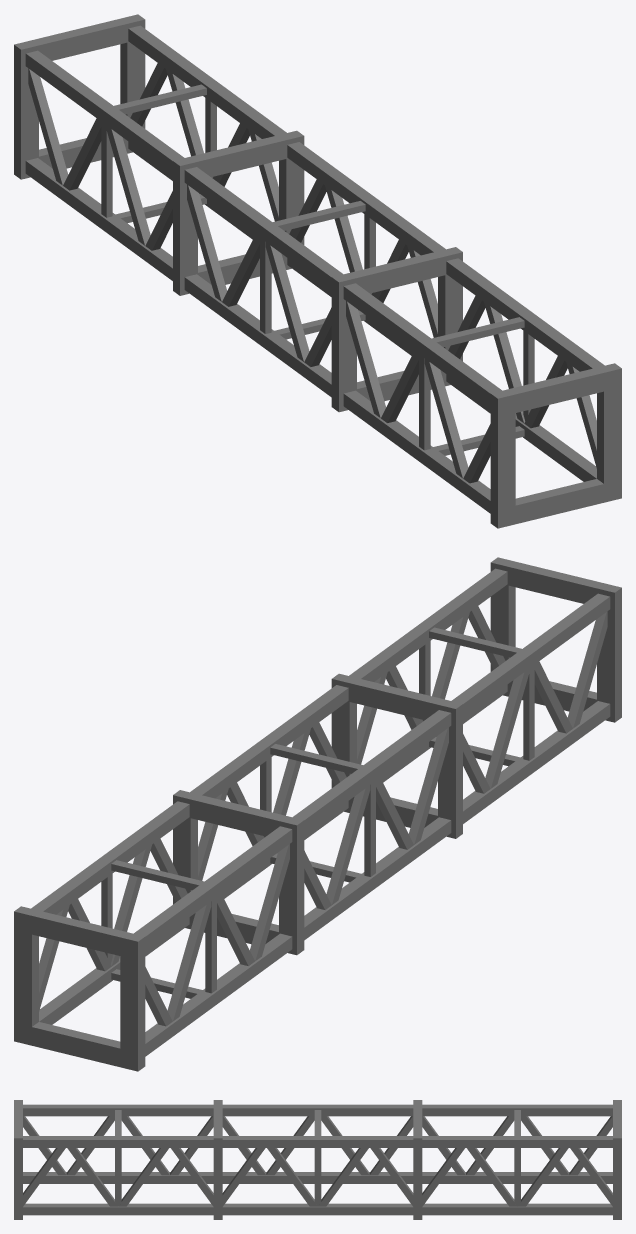
The model's file is Beams_01.fbx.
The picture shows the model from 3 angles, top to bottom: view 1: azimuth 30°, elevation 25°; view 2: azimuth 150°, elevation 25°; view 3: azimuth 270°, elevation 25°; orthographic projection. The views are drawn at different scales.
Visible parts, largest first — view 1: SM_Prop_Beams_01; view 2: SM_Prop_Beams_01; view 3: SM_Prop_Beams_01.
Part boxes in pixels (x1=…): SM_Prop_Beams_01: x1=14, y1=14, x2=621, y2=528; SM_Prop_Beams_01: x1=14, y1=557, x2=621, y2=1071; SM_Prop_Beams_01: x1=14, y1=1100, x2=621, y2=1219.
Size of the model in its own units: 75.08 by 75.08 by 507.
